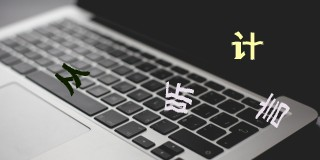从: (50, 61, 91, 96)
听: (162, 80, 194, 115)
言: (255, 92, 291, 128)
计: (230, 28, 264, 62)
